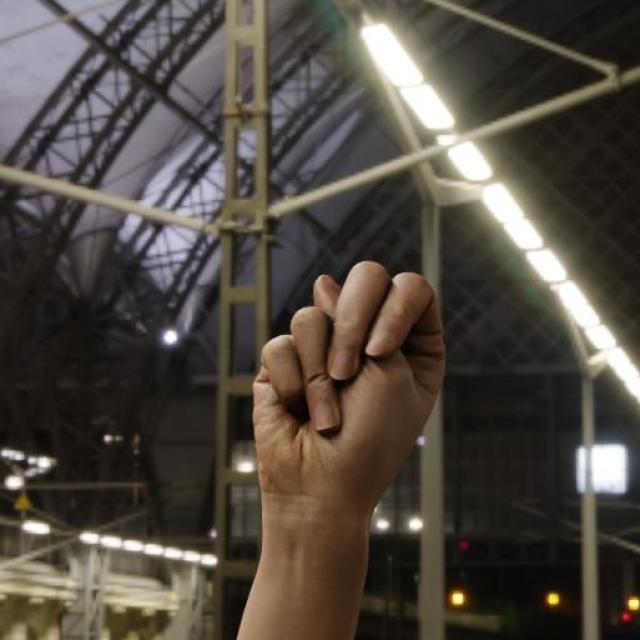N: (247, 259, 452, 505)
